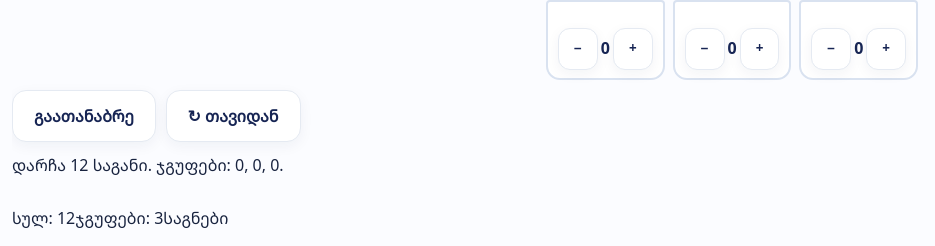
Test: tools: the equal-groups lab › starts empty, can be levelled, and then reports the division
Click the button "გაათანაბრე": (84, 116) [12, 90, 156, 142]
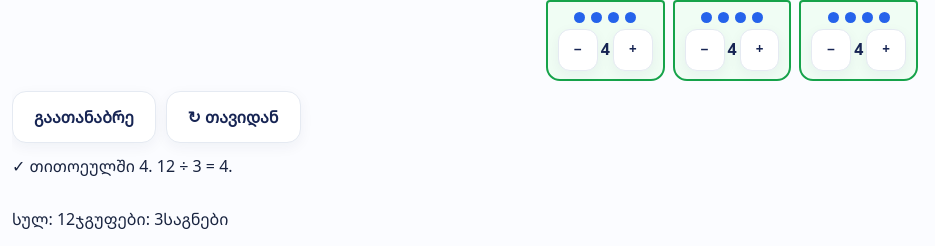
Check: the number of elements with class "is-fair" is 3, box [546, 0, 665, 81]; [673, 0, 791, 81]; [799, 0, 918, 81]
Check: the message with class "lab-status" shows "✓", box [12, 155, 233, 177]
Check: the message with class "lab-status" shows "12 ÷ 3 = 4", box [12, 155, 233, 177]
